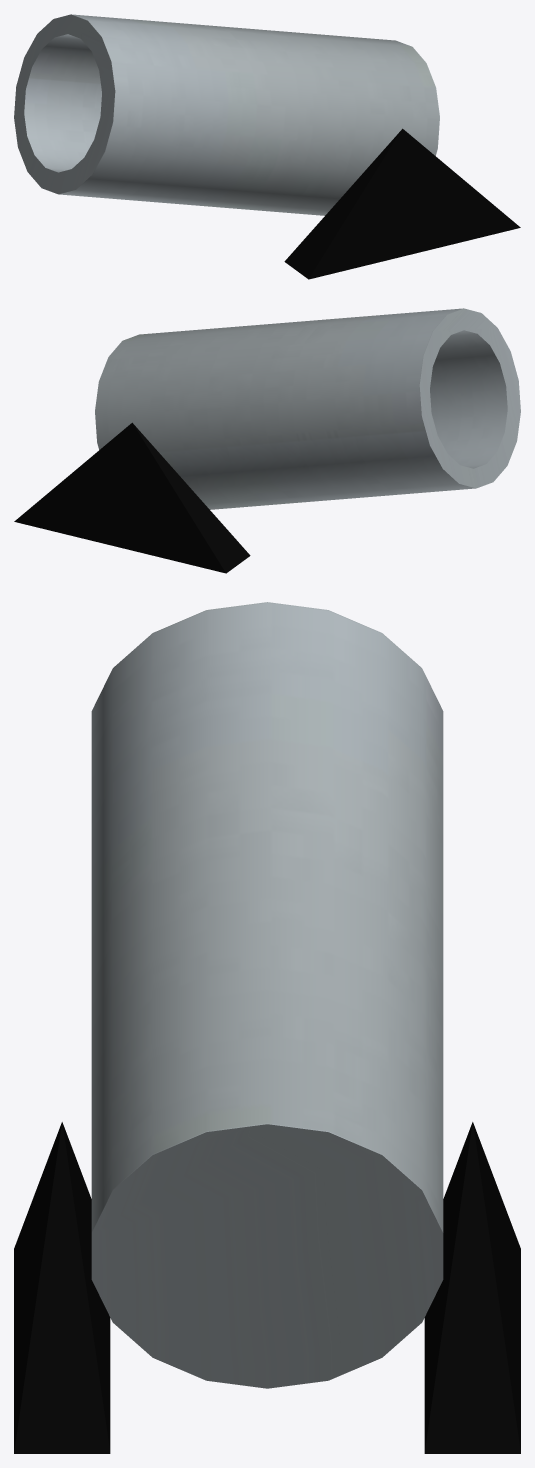
File: cannon.fbx
The picture shows the model from 3 angles, top to bottom: view 1: azimuth 30°, elevation 25°; view 2: azimuth 150°, elevation 25°; view 3: azimuth 270°, elevation 25°; orthographic projection. The views are drawn at different scales.
Parts seen in each view (by area): view 1: Cylinder001, Pyramid001; view 2: Cylinder001, Pyramid002; view 3: Cylinder001, Pyramid001, Pyramid002.
Boxes of the visible parts, <box> form: Cylinder001: <box>14,14,439,215</box>; Pyramid001: <box>284,128,520,279</box>; Cylinder001: <box>95,308,520,509</box>; Pyramid002: <box>14,422,250,573</box>; Cylinder001: <box>91,602,443,1388</box>; Pyramid001: <box>14,1122,110,1453</box>; Pyramid002: <box>424,1122,520,1453</box>.
Bounding box in the file's own units: 92.48 × 55.65 × 49.39.
2 materials, 2 textured.
